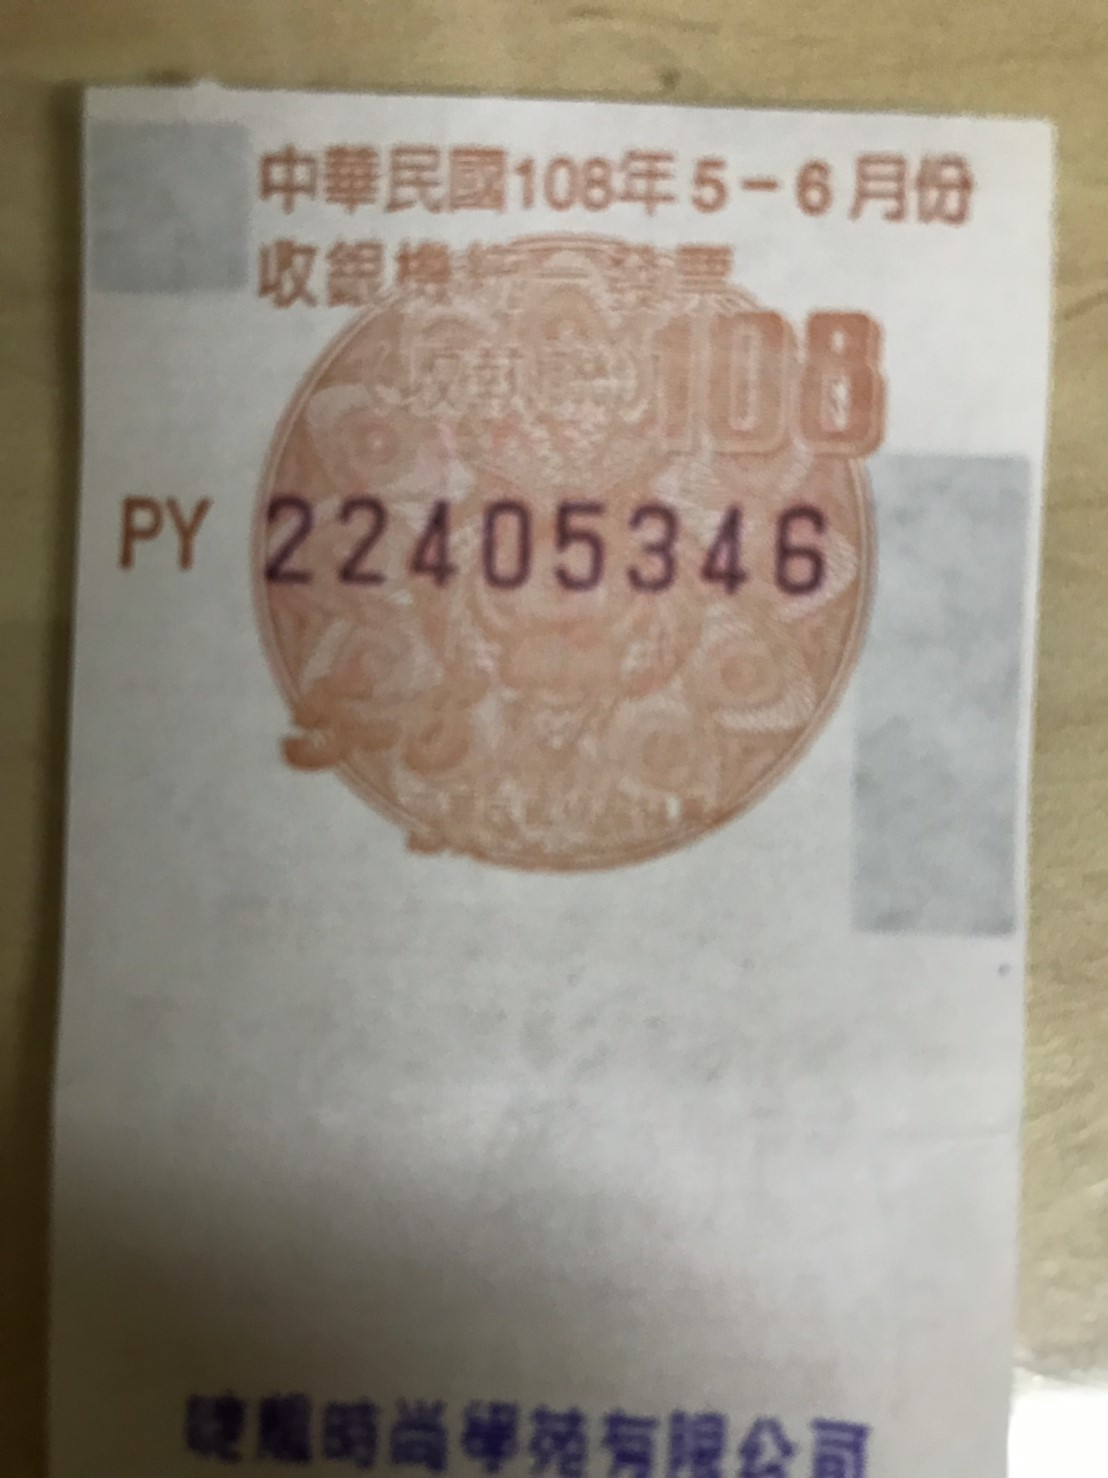Date_Old: (510, 143, 980, 230)
Number_Old: (260, 479, 834, 597)
